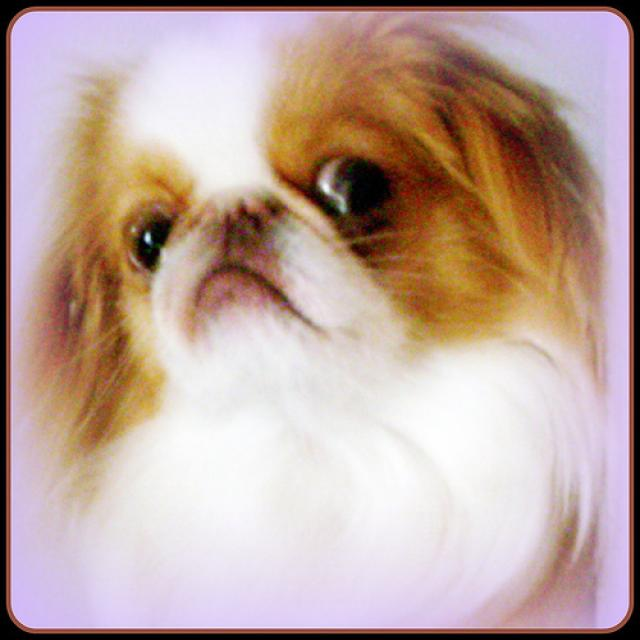dog-japanese_chin: (1, 3, 626, 637)
